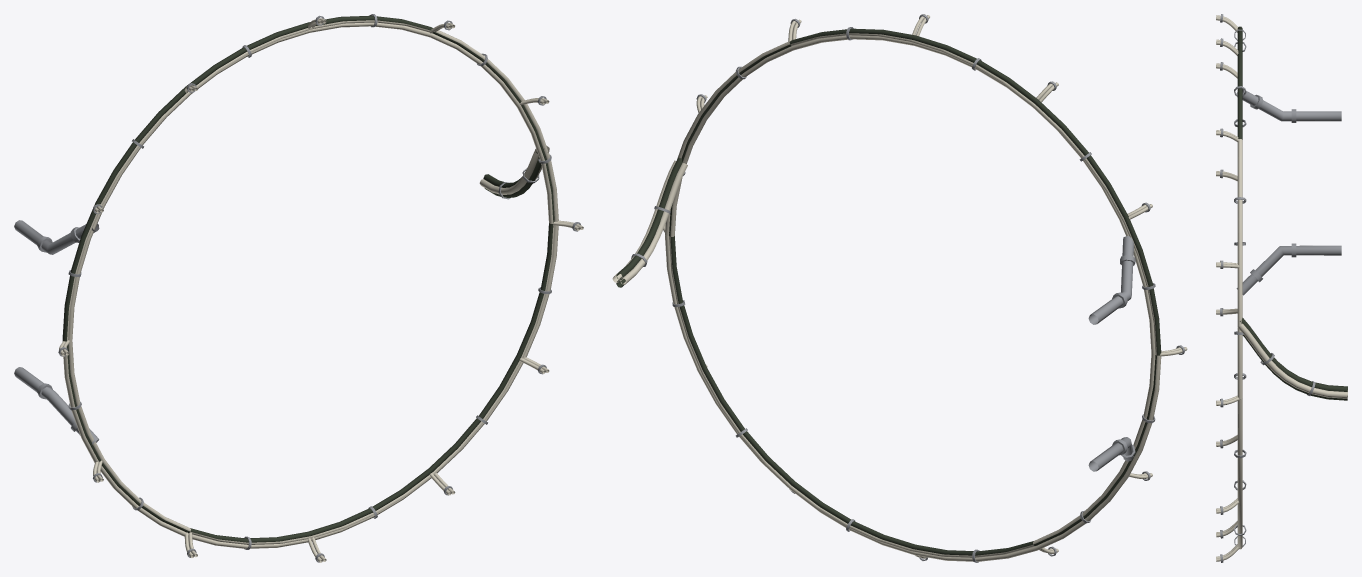
File: tz11_harness.obj
The picture shows the model from 3 angles, left to right: view 1: azimuth 30°, elevation 25°; view 2: azimuth 150°, elevation 25°; view 3: azimuth 270°, elevation 25°; orthographic projection. The views are drawn at different scales.
Parts seen in each view (by area): view 1: tz11_harness; view 2: tz11_harness; view 3: tz11_harness.
Part boxes in pixels (<box>): tz11_harness: <box>14,14,583,562</box>; tz11_harness: <box>612,14,1187,562</box>; tz11_harness: <box>1216,14,1347,562</box>.
Size of the model in its own units: 4.61 by 4.61 by 1.1.
